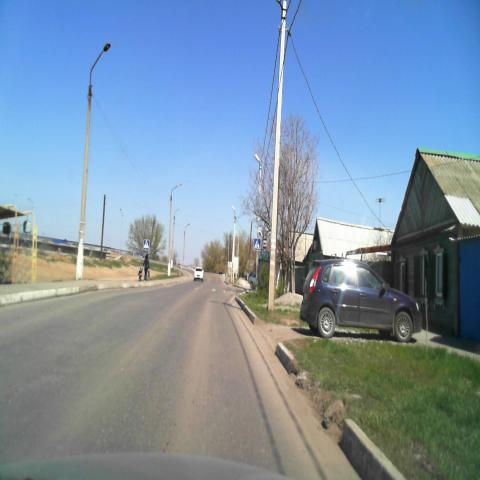5_19_1: (253, 238, 261, 250), (142, 239, 149, 250)
